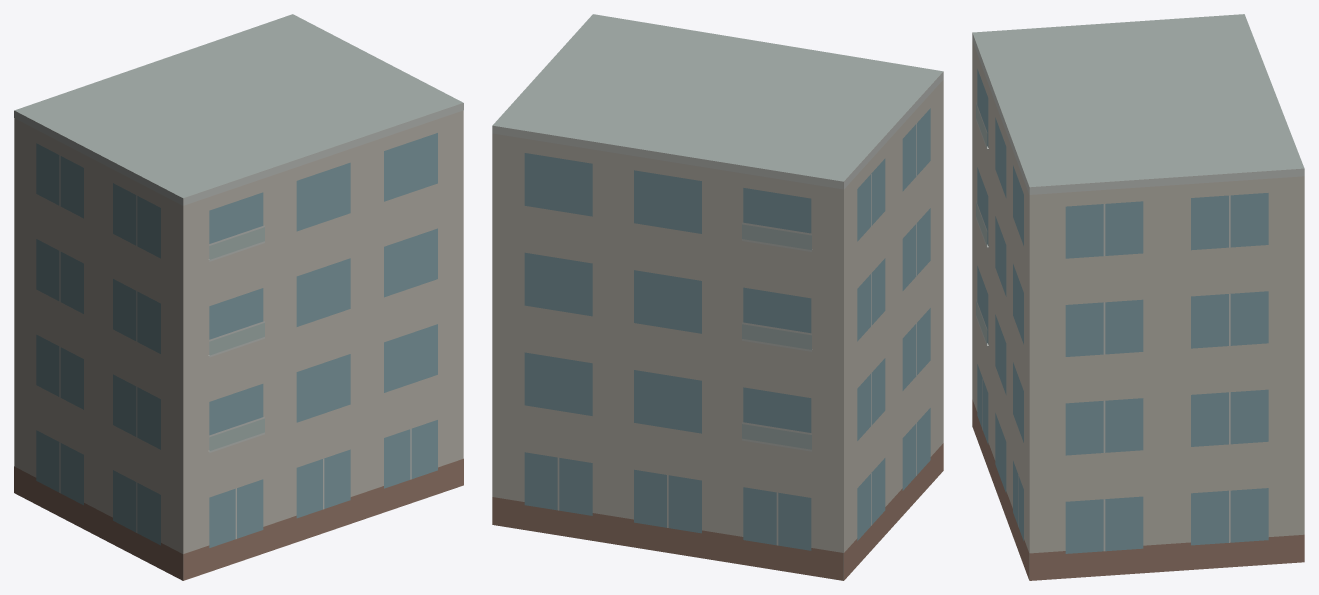
Rendered from survey-upis-32701790.glb.
The picture shows the model from 3 angles, left to right: view 1: azimuth 30°, elevation 25°; view 2: azimuth 150°, elevation 25°; view 3: azimuth 270°, elevation 25°; orthographic projection. The views are drawn at different scales.
Parts seen in each view (by area): view 1: survey-upis-32701790.tmp; view 2: survey-upis-32701790.tmp; view 3: survey-upis-32701790.tmp.
Part boxes in pixels (left/top/right/bottom): survey-upis-32701790.tmp: left=14, top=14, right=463, bottom=580; survey-upis-32701790.tmp: left=492, top=14, right=943, bottom=580; survey-upis-32701790.tmp: left=972, top=14, right=1304, bottom=580.
Size of the model in its own units: 11.66 by 12.35 by 9.46.
